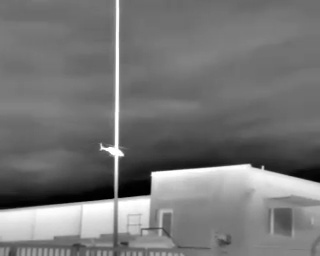HELICOPTER: (98, 140, 132, 160)
